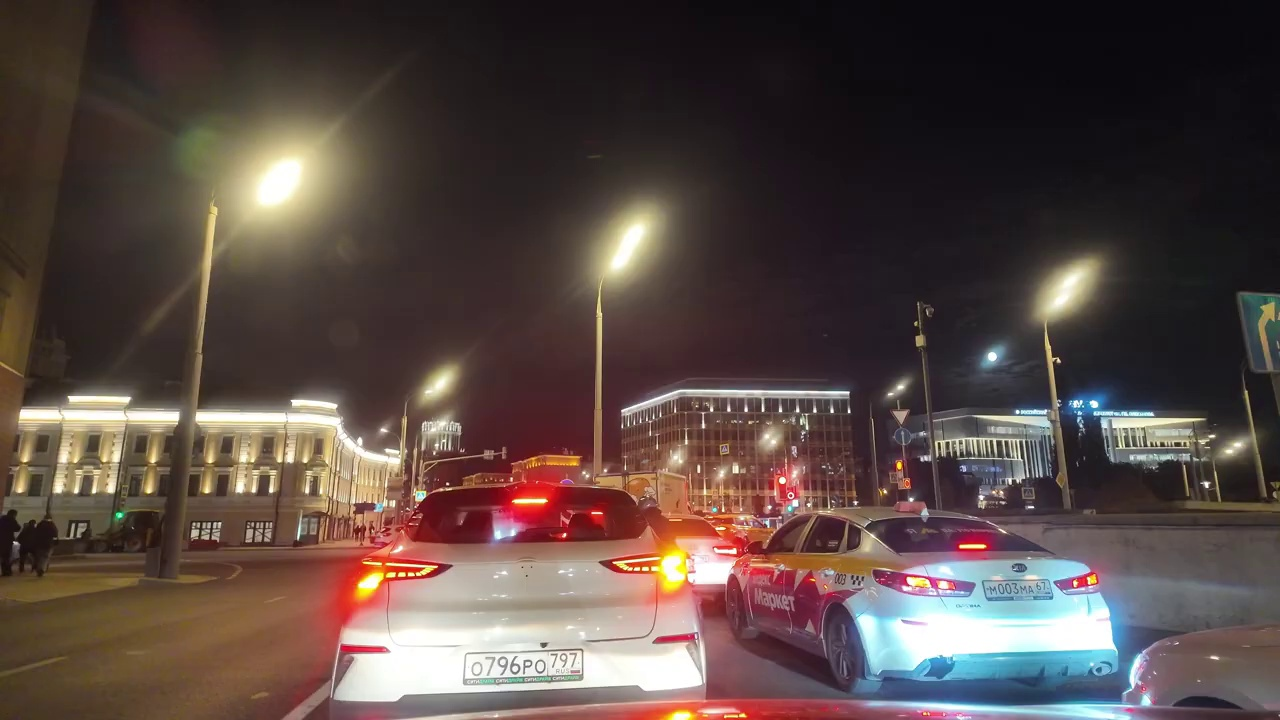acesa: (243, 151, 310, 218), (599, 212, 659, 283), (1039, 258, 1100, 325), (416, 362, 460, 405)
